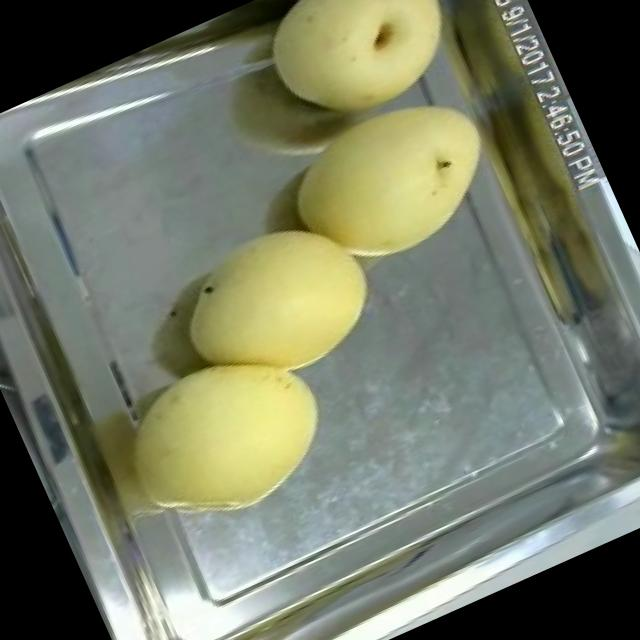Fruit: (262, 62, 528, 296), (100, 317, 358, 553), (154, 188, 399, 414), (235, 0, 490, 157)
